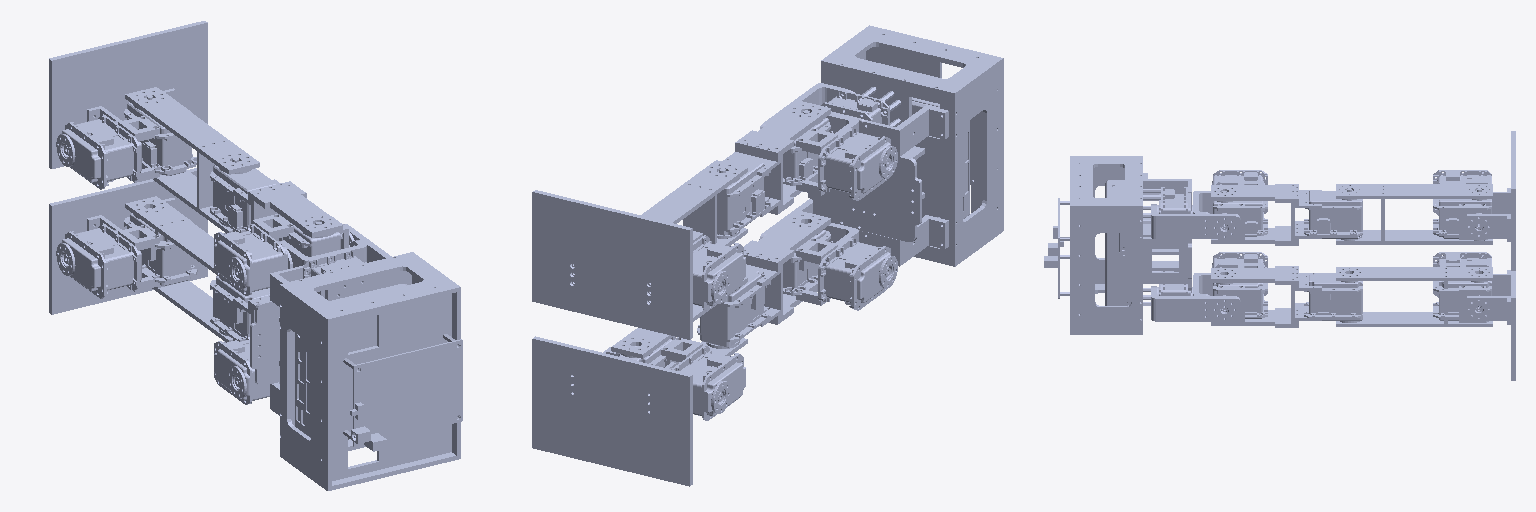
robot.urdf — kubot22:
<?xml version="1.0" encoding="utf-8"?>
<!-- This URDF was automatically created by SolidWorks to URDF Exporter! Originally created by [author] ([email redacted]) 
     Commit Version: 1.6.0-1-g15f4949  Build Version: 1.6.7594.29634
     For more information, please see http://wiki.ros.org/sw_urdf_exporter -->
<robot
  name="kubot22">
  <link
    name="base_link">
    <inertial>
      <origin
        xyz="0.13487757053926 -0.0336202311608078 0.106920714353761"
        rpy="0 0 0" />
      <mass
        value="0.882763599534397" />
      <inertia
        ixx="0.00111382201957083"
        ixy="-4.21786206715989E-06"
        ixz="-3.25725617277599E-06"
        iyy="0.00172986476818121"
        iyz="-9.9311816873734E-07"
        izz="0.000908858636466996" />
    </inertial>
    <visual>
      <origin
        xyz="0 0 0"
        rpy="0 0 0" />
      <geometry>
        <mesh
          filename="package://kubot22/meshes/base_link.STL" />
      </geometry>
      <material
        name="">
        <color
          rgba="0.792156862745098 0.819607843137255 0.933333333333333 1" />
      </material>
    </visual>
    <collision>
      <origin
        xyz="0 0 0"
        rpy="0 0 0" />
      <geometry>
        <mesh
          filename="package://kubot22/meshes/base_link.STL" />
      </geometry>
    </collision>
  </link>
  <link
    name="L_P_Link">
    <inertial>
      <origin
        xyz="0.0101942341044289 -2.22044604925031E-16 -0.000142768980480532"
        rpy="0 0 0" />
      <mass
        value="0.0393857347582611" />
      <inertia
        ixx="2.64964190476657E-05"
        ixy="1.06853302085836E-19"
        ixz="1.14503891498095E-06"
        iyy="3.48934068790809E-05"
        iyz="-1.65767744381382E-19"
        izz="1.3647568165069E-05" />
    </inertial>
    <visual>
      <origin
        xyz="0 0 0"
        rpy="0 0 0" />
      <geometry>
        <mesh
          filename="package://kubot22/meshes/L_P_Link.STL" />
      </geometry>
      <material
        name="">
        <color
          rgba="0.792156862745098 0.819607843137255 0.933333333333333 1" />
      </material>
    </visual>
    <collision>
      <origin
        xyz="0 0 0"
        rpy="0 0 0" />
      <geometry>
        <mesh
          filename="package://kubot22/meshes/L_P_Link.STL" />
      </geometry>
    </collision>
  </link>
  <joint
    name="LP"
    type="revolute">
    <origin
      xyz="0.159485615221285 0.0404744286028535 0.156960053259992"
      rpy="1.5707963267949 0 0" />
    <parent
      link="base_link" />
    <child
      link="L_P_Link" />
    <axis
      xyz="0 0 1" />
    <limit
      lower="0"
      upper="0"
      effort="0"
      velocity="0" />
  </joint>
  <link
    name="L_Pm_Link">
    <inertial>
      <origin
        xyz="0.00707717713304501 3.85239838591456E-05 -0.0151561501062952"
        rpy="0 0 0" />
      <mass
        value="0.162200904744285" />
      <inertia
        ixx="5.7104715252823E-05"
        ixy="-1.84219355186035E-15"
        ixz="-8.84021044537679E-07"
        iyy="5.64546355569106E-05"
        iyz="-8.80586953161381E-07"
        izz="3.55989270228193E-05" />
    </inertial>
    <visual>
      <origin
        xyz="0 0 0"
        rpy="0 0 0" />
      <geometry>
        <mesh
          filename="package://kubot22/meshes/L_Pm_Link.STL" />
      </geometry>
      <material
        name="">
        <color
          rgba="0.792156862745098 0.819607843137255 0.933333333333333 1" />
      </material>
    </visual>
    <collision>
      <origin
        xyz="0 0 0"
        rpy="0 0 0" />
      <geometry>
        <mesh
          filename="package://kubot22/meshes/L_Pm_Link.STL" />
      </geometry>
    </collision>
  </link>
  <joint
    name="LPm"
    type="revolute">
    <origin
      xyz="-0.0325199999999994 0 -0.0344999999999993"
      rpy="0 0 0" />
    <parent
      link="L_P_Link" />
    <child
      link="L_Pm_Link" />
    <axis
      xyz="-1 0 0" />
    <limit
      lower="0"
      upper="0"
      effort="0"
      velocity="0" />
  </joint>
  <link
    name="L_Pd_Link">
    <inertial>
      <origin
        xyz="2.38804326063713E-06 -0.0233215850886279 -0.0985654144211849"
        rpy="0 0 0" />
      <mass
        value="0.131437999723236" />
      <inertia
        ixx="6.74148953552328E-05"
        ixy="2.31027379277854E-09"
        ixz="1.64109502160248E-09"
        iyy="6.23573284633263E-05"
        iyz="1.06283658581043E-06"
        izz="2.94619383856094E-05" />
    </inertial>
    <visual>
      <origin
        xyz="0 0 0"
        rpy="0 0 0" />
      <geometry>
        <mesh
          filename="package://kubot22/meshes/L_Pd_Link.STL" />
      </geometry>
      <material
        name="">
        <color
          rgba="0.792156862745098 0.819607843137255 0.933333333333333 1" />
      </material>
    </visual>
    <collision>
      <origin
        xyz="0 0 0"
        rpy="0 0 0" />
      <geometry>
        <mesh
          filename="package://kubot22/meshes/L_Pd_Link.STL" />
      </geometry>
    </collision>
  </link>
  <joint
    name="LPd"
    type="revolute">
    <origin
      xyz="0.0327000000000002 0.0234999999999997 0"
      rpy="0 0 0" />
    <parent
      link="L_Pm_Link" />
    <child
      link="L_Pd_Link" />
    <axis
      xyz="0 -1 0" />
    <limit
      lower="0"
      upper="0"
      effort="0"
      velocity="0" />
  </joint>
  <link
    name="L_K_Link">
    <inertial>
      <origin
        xyz="9.15933995315754E-16 -0.0259000000000005 -0.0669817464987959"
        rpy="0 0 0" />
      <mass
        value="0.0456080512896605" />
      <inertia
        ixx="9.51110967920258E-05"
        ixy="2.2043798017358E-20"
        ixz="1.47886924624151E-18"
        iyy="9.72572102585299E-05"
        iyz="-6.82082480675503E-19"
        izz="4.88947453763215E-06" />
    </inertial>
    <visual>
      <origin
        xyz="0 0 0"
        rpy="0 0 0" />
      <geometry>
        <mesh
          filename="package://kubot22/meshes/L_K_Link.STL" />
      </geometry>
      <material
        name="">
        <color
          rgba="0.792156862745098 0.819607843137255 0.933333333333333 1" />
      </material>
    </visual>
    <collision>
      <origin
        xyz="0 0 0"
        rpy="0 0 0" />
      <geometry>
        <mesh
          filename="package://kubot22/meshes/L_K_Link.STL" />
      </geometry>
    </collision>
  </link>
  <joint
    name="LK"
    type="revolute">
    <origin
      xyz="0 0.00259999999999899 -0.138"
      rpy="0 0 0" />
    <parent
      link="L_Pd_Link" />
    <child
      link="L_K_Link" />
    <axis
      xyz="0 -1 0" />
    <limit
      lower="0"
      upper="0"
      effort="0"
      velocity="0" />
  </joint>
  <link
    name="L_A_Link">
    <inertial>
      <origin
        xyz="-0.0259666104120727 -0.0259475134476136 0.0156397822927297"
        rpy="0 0 0" />
      <mass
        value="0.190388191021813" />
      <inertia
        ixx="7.64195116737871E-05"
        ixy="-1.15225093959467E-16"
        ixz="1.06791218491658E-06"
        iyy="7.57694319796679E-05"
        iyz="1.06119549076496E-06"
        izz="4.77962950267527E-05" />
    </inertial>
    <visual>
      <origin
        xyz="0 0 0"
        rpy="0 0 0" />
      <geometry>
        <mesh
          filename="package://kubot22/meshes/L_A_Link.STL" />
      </geometry>
      <material
        name="">
        <color
          rgba="0.792156862745098 0.819607843137255 0.933333333333333 1" />
      </material>
    </visual>
    <collision>
      <origin
        xyz="0 0 0"
        rpy="0 0 0" />
      <geometry>
        <mesh
          filename="package://kubot22/meshes/L_A_Link.STL" />
      </geometry>
    </collision>
  </link>
  <joint
    name="LA"
    type="revolute">
    <origin
      xyz="0 0 -0.143"
      rpy="0 0 0" />
    <parent
      link="L_K_Link" />
    <child
      link="L_A_Link" />
    <axis
      xyz="0 -1 0" />
    <limit
      lower="0"
      upper="0"
      effort="0"
      velocity="0" />
  </joint>
  <link
    name="L_F_Link">
    <inertial>
      <origin
        xyz="0.0310640975062315 0.0143937054527845 -0.0343821494549726"
        rpy="0 0 0" />
      <mass
        value="0.0868435167094629" />
      <inertia
        ixx="6.6263151611369E-05"
        ixy="-2.45575588587493E-09"
        ixz="-9.73035350957053E-11"
        iyy="0.00014335576194635"
        iyz="3.45047996863833E-09"
        izz="0.000203561773995672" />
    </inertial>
    <visual>
      <origin
        xyz="0 0 0"
        rpy="0 0 0" />
      <geometry>
        <mesh
          filename="package://kubot22/meshes/L_F_Link.STL" />
      </geometry>
      <material
        name="">
        <color
          rgba="0.792156862745098 0.819607843137255 0.933333333333333 1" />
      </material>
    </visual>
    <collision>
      <origin
        xyz="0 0 0"
        rpy="0 0 0" />
      <geometry>
        <mesh
          filename="package://kubot22/meshes/L_F_Link.STL" />
      </geometry>
    </collision>
  </link>
  <joint
    name="LF"
    type="revolute">
    <origin
      xyz="-0.0302000000025354 -0.0259999999982274 0"
      rpy="0 0 0" />
    <parent
      link="L_A_Link" />
    <child
      link="L_F_Link" />
    <axis
      xyz="-1 0 0" />
    <limit
      lower="0"
      upper="0"
      effort="0"
      velocity="0" />
  </joint>
  <link
    name="R_P_Link">
    <inertial>
      <origin
        xyz="0.010194234104429 -6.93889390390723E-17 -0.000142768980477243"
        rpy="0 0 0" />
      <mass
        value="0.039385734758261" />
      <inertia
        ixx="2.64964190476657E-05"
        ixy="9.96852611367357E-20"
        ixz="1.14503891498095E-06"
        iyy="3.48934068790809E-05"
        iyz="-1.49177113282633E-19"
        izz="1.3647568165069E-05" />
    </inertial>
    <visual>
      <origin
        xyz="0 0 0"
        rpy="0 0 0" />
      <geometry>
        <mesh
          filename="package://kubot22/meshes/R_P_Link.STL" />
      </geometry>
      <material
        name="">
        <color
          rgba="0.792156862745098 0.819607843137255 0.933333333333333 1" />
      </material>
    </visual>
    <collision>
      <origin
        xyz="0 0 0"
        rpy="0 0 0" />
      <geometry>
        <mesh
          filename="package://kubot22/meshes/R_P_Link.STL" />
      </geometry>
    </collision>
  </link>
  <joint
    name="RP"
    type="revolute">
    <origin
      xyz="0.159485615221284 0.0404744286028528 0.056960053259992"
      rpy="1.5707963267949 0 0" />
    <parent
      link="base_link" />
    <child
      link="R_P_Link" />
    <axis
      xyz="0 0 1" />
    <limit
      lower="0"
      upper="0"
      effort="0"
      velocity="0" />
  </joint>
  <link
    name="R_Pm_Link">
    <inertial>
      <origin
        xyz="0.00707717626302978 -3.85248505976876E-05 -0.0151561501067035"
        rpy="0 0 0" />
      <mass
        value="0.16220090474444" />
      <inertia
        ixx="5.7104715251826E-05"
        ixy="3.93080780626017E-16"
        ixz="-8.84021462112588E-07"
        iyy="5.64546355578891E-05"
        iyz="8.80586542006963E-07"
        izz="3.55989270225549E-05" />
    </inertial>
    <visual>
      <origin
        xyz="0 0 0"
        rpy="0 0 0" />
      <geometry>
        <mesh
          filename="package://kubot22/meshes/R_Pm_Link.STL" />
      </geometry>
      <material
        name="">
        <color
          rgba="0.792156862745098 0.819607843137255 0.933333333333333 1" />
      </material>
    </visual>
    <collision>
      <origin
        xyz="0 0 0"
        rpy="0 0 0" />
      <geometry>
        <mesh
          filename="package://kubot22/meshes/R_Pm_Link.STL" />
      </geometry>
    </collision>
  </link>
  <joint
    name="RPm"
    type="revolute">
    <origin
      xyz="-0.0325199999999994 0 -0.0345000000000015"
      rpy="0 0 0" />
    <parent
      link="R_P_Link" />
    <child
      link="R_Pm_Link" />
    <axis
      xyz="-1 0 0" />
    <limit
      lower="0"
      upper="0"
      effort="0"
      velocity="0" />
  </joint>
  <link
    name="R_Pd_Link">
    <inertial>
      <origin
        xyz="-2.38804325317088E-06 0.0233215850886161 -0.0985654144211578"
        rpy="0 0 0" />
      <mass
        value="0.131437999723154" />
      <inertia
        ixx="6.7414895355171E-05"
        ixy="2.31027378172361E-09"
        ixz="-1.64109500692008E-09"
        iyy="6.23573284632843E-05"
        iyz="-1.06283658584147E-06"
        izz="2.94619383855796E-05" />
    </inertial>
    <visual>
      <origin
        xyz="0 0 0"
        rpy="0 0 0" />
      <geometry>
        <mesh
          filename="package://kubot22/meshes/R_Pd_Link.STL" />
      </geometry>
      <material
        name="">
        <color
          rgba="0.792156862745098 0.819607843137255 0.933333333333333 1" />
      </material>
    </visual>
    <collision>
      <origin
        xyz="0 0 0"
        rpy="0 0 0" />
      <geometry>
        <mesh
          filename="package://kubot22/meshes/R_Pd_Link.STL" />
      </geometry>
    </collision>
  </link>
  <joint
    name="RPd"
    type="revolute">
    <origin
      xyz="0.0326999999999998 -0.0234999999999854 0"
      rpy="0 0 0" />
    <parent
      link="R_Pm_Link" />
    <child
      link="R_Pd_Link" />
    <axis
      xyz="0 1 0" />
    <limit
      lower="0"
      upper="0"
      effort="0"
      velocity="0" />
  </joint>
  <link
    name="R_K_Link">
    <inertial>
      <origin
        xyz="-1.91668902971287E-12 0.0258999999999996 -0.0760182535012041"
        rpy="0 0 0" />
      <mass
        value="0.0456080512896606" />
      <inertia
        ixx="9.5111096792026E-05"
        ixy="2.09851416571634E-20"
        ixz="-2.27519646291819E-15"
        iyy="9.72572102585302E-05"
        iyz="-6.45894299949005E-19"
        izz="4.88947453763216E-06" />
    </inertial>
    <visual>
      <origin
        xyz="0 0 0"
        rpy="0 0 0" />
      <geometry>
        <mesh
          filename="package://kubot22/meshes/R_K_Link.STL" />
      </geometry>
      <material
        name="">
        <color
          rgba="0.792156862745098 0.819607843137255 0.933333333333333 1" />
      </material>
    </visual>
    <collision>
      <origin
        xyz="0 0 0"
        rpy="0 0 0" />
      <geometry>
        <mesh
          filename="package://kubot22/meshes/R_K_Link.STL" />
      </geometry>
    </collision>
  </link>
  <joint
    name="RK"
    type="revolute">
    <origin
      xyz="0 -0.00260000000000109 -0.138"
      rpy="0 0 0" />
    <parent
      link="R_Pd_Link" />
    <child
      link="R_K_Link" />
    <axis
      xyz="0 1 0" />
    <limit
      lower="0"
      upper="0"
      effort="0"
      velocity="0" />
  </joint>
  <link
    name="R_A_Link">
    <inertial>
      <origin
        xyz="-0.0259699076687473 0.0259442161897109 0.0156397822937843"
        rpy="0 0 0" />
      <mass
        value="0.19038819102189" />
      <inertia
        ixx="7.6419511673877E-05"
        ixy="4.1115114291799E-18"
        ixz="1.06462999338413E-06"
        iyy="7.57694319797569E-05"
        iyz="-1.06447768084667E-06"
        izz="4.77962950267124E-05" />
    </inertial>
    <visual>
      <origin
        xyz="0 0 0"
        rpy="0 0 0" />
      <geometry>
        <mesh
          filename="package://kubot22/meshes/R_A_Link.STL" />
      </geometry>
      <material
        name="">
        <color
          rgba="0.792156862745098 0.819607843137255 0.933333333333333 1" />
      </material>
    </visual>
    <collision>
      <origin
        xyz="0 0 0"
        rpy="0 0 0" />
      <geometry>
        <mesh
          filename="package://kubot22/meshes/R_A_Link.STL" />
      </geometry>
    </collision>
  </link>
  <joint
    name="RA"
    type="revolute">
    <origin
      xyz="0 0 -0.143"
      rpy="0 0 0" />
    <parent
      link="R_K_Link" />
    <child
      link="R_A_Link" />
    <axis
      xyz="0 1 0" />
    <limit
      lower="0"
      upper="0"
      effort="0"
      velocity="0" />
  </joint>
  <link
    name="R_F_Link">
    <inertial>
      <origin
        xyz="0.0310642516260749 -0.0143882402101243 -0.0343879845773217"
        rpy="0 0 0" />
      <mass
        value="0.0868765034323255" />
      <inertia
        ixx="6.62738521352016E-05"
        ixy="2.19531020861638E-09"
        ixz="9.3370155367727E-11"
        iyy="0.000143399701069219"
        iyz="3.31099842956373E-09"
        izz="0.000203616408054889" />
    </inertial>
    <visual>
      <origin
        xyz="0 0 0"
        rpy="0 0 0" />
      <geometry>
        <mesh
          filename="package://kubot22/meshes/R_F_Link.STL" />
      </geometry>
      <material
        name="">
        <color
          rgba="0.792156862745098 0.819607843137255 0.933333333333333 1" />
      </material>
    </visual>
    <collision>
      <origin
        xyz="0 0 0"
        rpy="0 0 0" />
      <geometry>
        <mesh
          filename="package://kubot22/meshes/R_F_Link.STL" />
      </geometry>
    </collision>
  </link>
  <joint
    name="RF"
    type="revolute">
    <origin
      xyz="-0.0302 0.026 0"
      rpy="0 0 0" />
    <parent
      link="R_A_Link" />
    <child
      link="R_F_Link" />
    <axis
      xyz="-1 0 0" />
    <limit
      lower="0"
      upper="0"
      effort="0"
      velocity="0" />
  </joint>
</robot>

--- What the picture shows (computed from the rendered views, not written in the file) ---
3 views of the same robot in one strip: view 1: azimuth 30°, elevation 25°; view 2: azimuth 150°, elevation 25°; view 3: azimuth 270°, elevation 25° (orthographic).
Robot: kubot22 — 13 links, 12 joints (12 revolute); root link base_link; default pose: all joints at 0.
Visible links, largest first — view 1: base_link, L_F_Link, L_A_Link, R_A_Link, R_F_Link, L_Pm_Link, L_K_Link, L_Pd_Link, R_K_Link, R_Pm_Link, R_Pd_Link, L_P_Link; view 2: base_link, R_F_Link, L_F_Link, R_Pd_Link, L_Pd_Link, L_Pm_Link, R_Pm_Link, R_A_Link, L_K_Link, L_A_Link, R_K_Link, L_P_Link (+1 smaller); view 3: base_link, L_Pd_Link, R_Pd_Link, L_K_Link, R_K_Link, R_P_Link, L_P_Link, L_A_Link, R_A_Link, R_Pm_Link, L_Pm_Link, L_F_Link (+1 smaller).
Link boxes in pixels (bbox=[...]): base_link: bbox=[250, 250, 462, 490]; L_F_Link: bbox=[49, 21, 207, 168]; L_A_Link: bbox=[56, 95, 196, 189]; R_A_Link: bbox=[56, 208, 197, 298]; R_F_Link: bbox=[49, 168, 207, 314]; L_Pm_Link: bbox=[214, 214, 354, 295]; L_K_Link: bbox=[125, 87, 259, 233]; L_Pd_Link: bbox=[210, 158, 342, 240]; R_K_Link: bbox=[125, 196, 232, 342]; R_Pm_Link: bbox=[214, 334, 269, 404]; R_Pd_Link: bbox=[210, 276, 269, 341]; L_P_Link: bbox=[278, 224, 391, 267]; base_link: bbox=[808, 25, 1003, 266]; R_F_Link: bbox=[532, 336, 692, 486]; L_F_Link: bbox=[532, 190, 692, 339]; R_Pd_Link: bbox=[697, 211, 830, 348]; L_Pd_Link: bbox=[717, 101, 830, 238]; L_Pm_Link: bbox=[767, 110, 897, 200]; R_Pm_Link: bbox=[767, 221, 897, 310]; R_A_Link: bbox=[606, 337, 745, 420]; L_K_Link: bbox=[641, 160, 747, 246]; L_A_Link: bbox=[693, 231, 745, 310]; R_K_Link: bbox=[611, 277, 747, 362]; L_P_Link: bbox=[760, 83, 858, 136]; base_link: bbox=[1044, 156, 1192, 334]; L_Pd_Link: bbox=[1211, 184, 1362, 245]; R_Pd_Link: bbox=[1211, 266, 1362, 327]; L_K_Link: bbox=[1336, 184, 1492, 244]; R_K_Link: bbox=[1336, 267, 1492, 326]; R_P_Link: bbox=[1151, 273, 1240, 321]; L_P_Link: bbox=[1151, 191, 1240, 238]; L_A_Link: bbox=[1433, 170, 1491, 240]; R_A_Link: bbox=[1433, 252, 1491, 322]; R_Pm_Link: bbox=[1212, 252, 1267, 322]; L_Pm_Link: bbox=[1212, 170, 1267, 240]; L_F_Link: bbox=[1467, 131, 1515, 270].
Bounding box of the posed robot: 0.1655 × 0.52 × 0.2335 m (x, y, z).
Meshes: 13 distinct files referenced, 13 mesh visuals loaded (13 binary STL).
